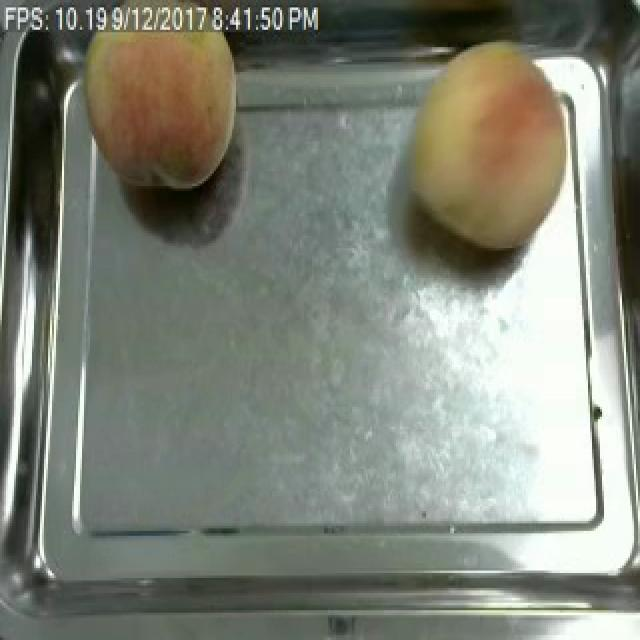Fruit: (396, 32, 590, 260), (68, 30, 248, 201)
